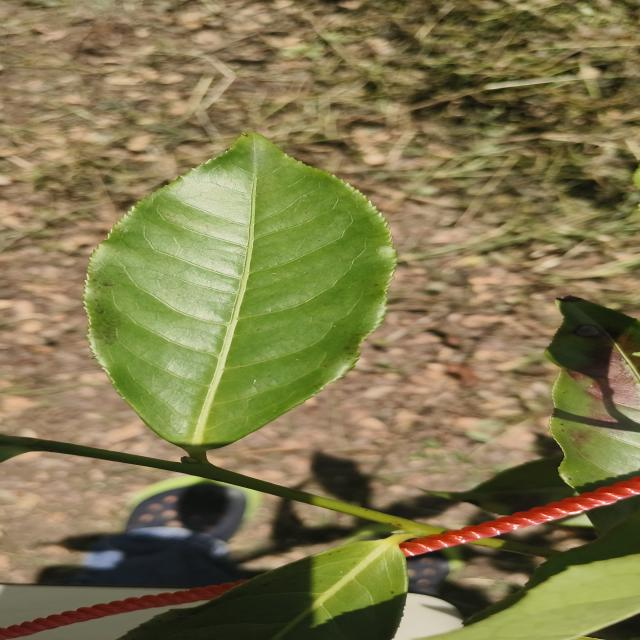Leaf: (85, 133, 394, 457), (118, 536, 407, 640), (433, 514, 640, 640), (547, 297, 640, 492), (425, 454, 573, 515), (589, 498, 640, 532)
